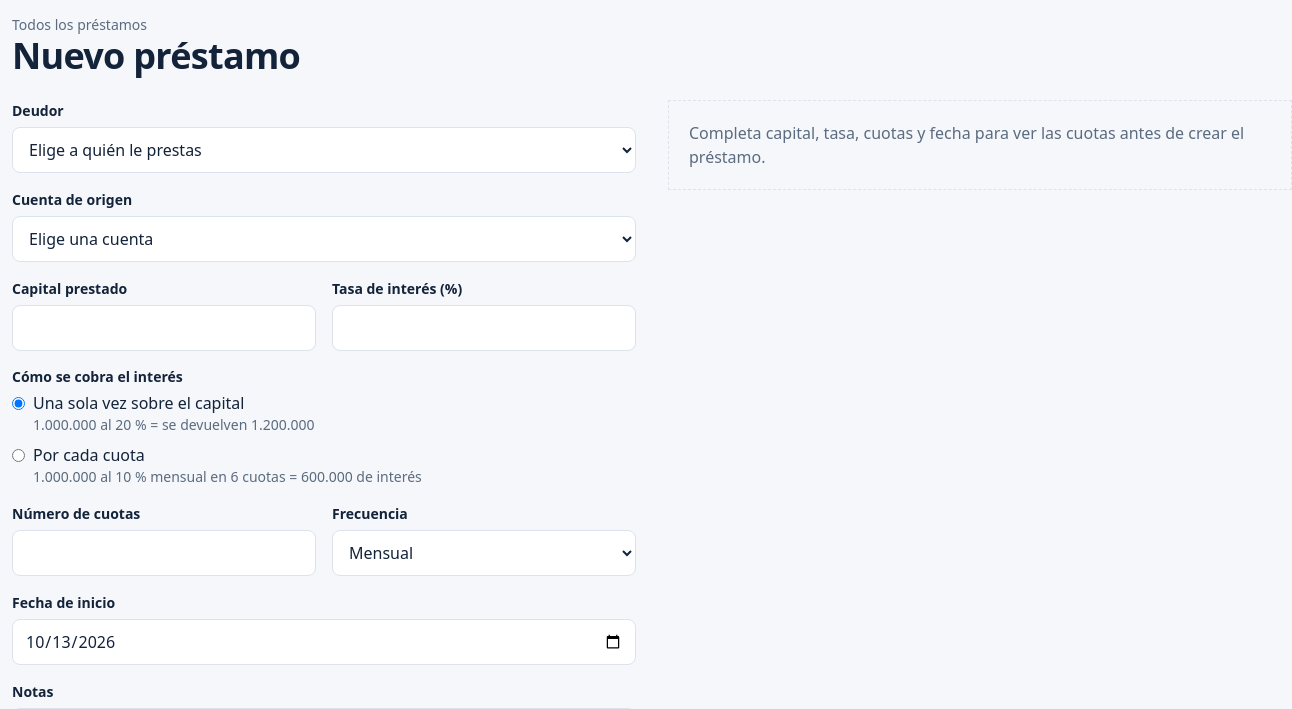
letters cannot be typed into the capital
This screenshot has width=1292, height=709.
Type "un millón 5" into the field labelled "Capital prestado". click: (164, 328)
box: [12, 305, 316, 351]
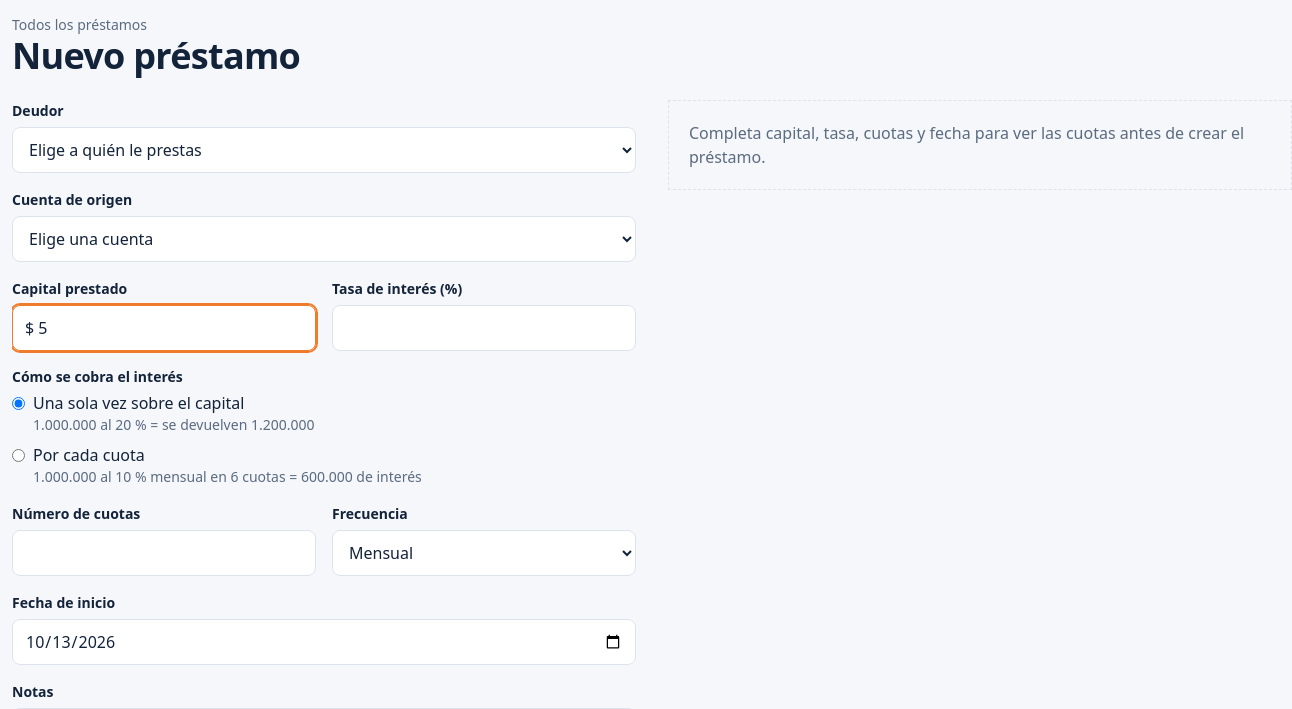
Expected: the field labelled "Capital prestado" holds "$ 5", [12, 305, 316, 351]
